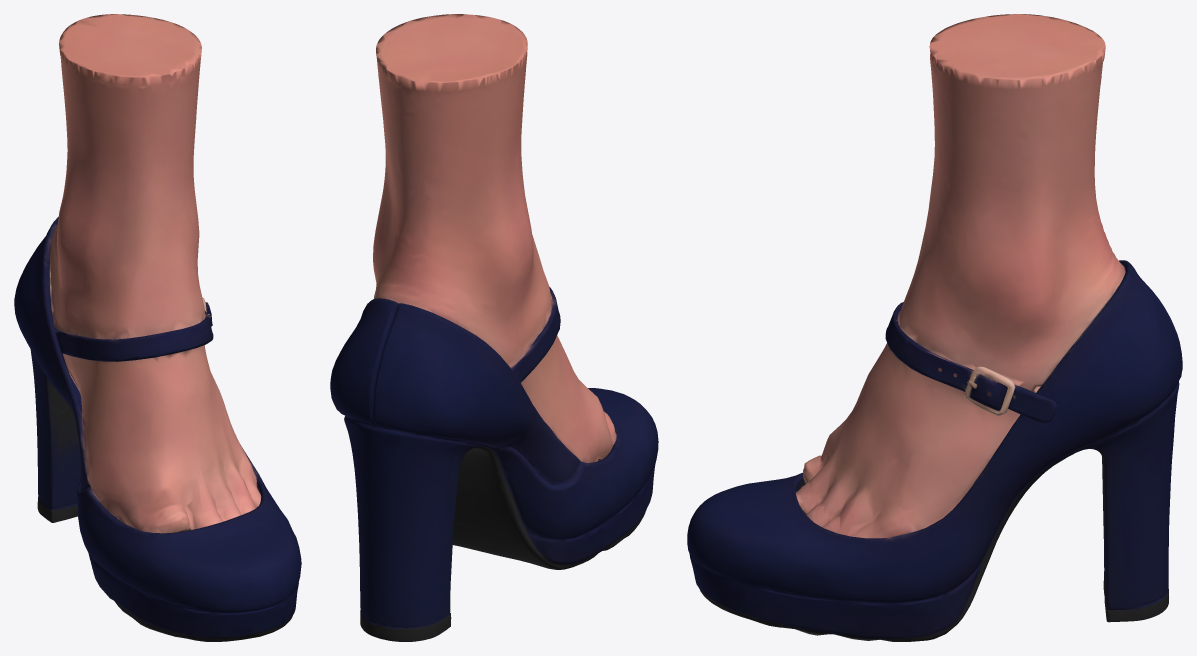
The model's file is navy_mary_jane_left.glb.
3 renders of one model, left to right at view 1: azimuth 30°, elevation 25°; view 2: azimuth 150°, elevation 25°; view 3: azimuth 270°, elevation 25°, orthographic. The views are drawn at different scales.
Visible parts, largest first — view 1: tripo_node_fbc45dc5-53de-47ea-ad13-e1d2901501a6; view 2: tripo_node_fbc45dc5-53de-47ea-ad13-e1d2901501a6; view 3: tripo_node_fbc45dc5-53de-47ea-ad13-e1d2901501a6.
Part boxes in pixels (bbox=[...]): tripo_node_fbc45dc5-53de-47ea-ad13-e1d2901501a6: bbox=[14, 14, 301, 641]; tripo_node_fbc45dc5-53de-47ea-ad13-e1d2901501a6: bbox=[330, 14, 658, 641]; tripo_node_fbc45dc5-53de-47ea-ad13-e1d2901501a6: bbox=[687, 14, 1182, 641].
Size of the model in its own units: 0.3559 by 0.9781 by 0.7859.
Materials: 1 (1 with a texture image).
